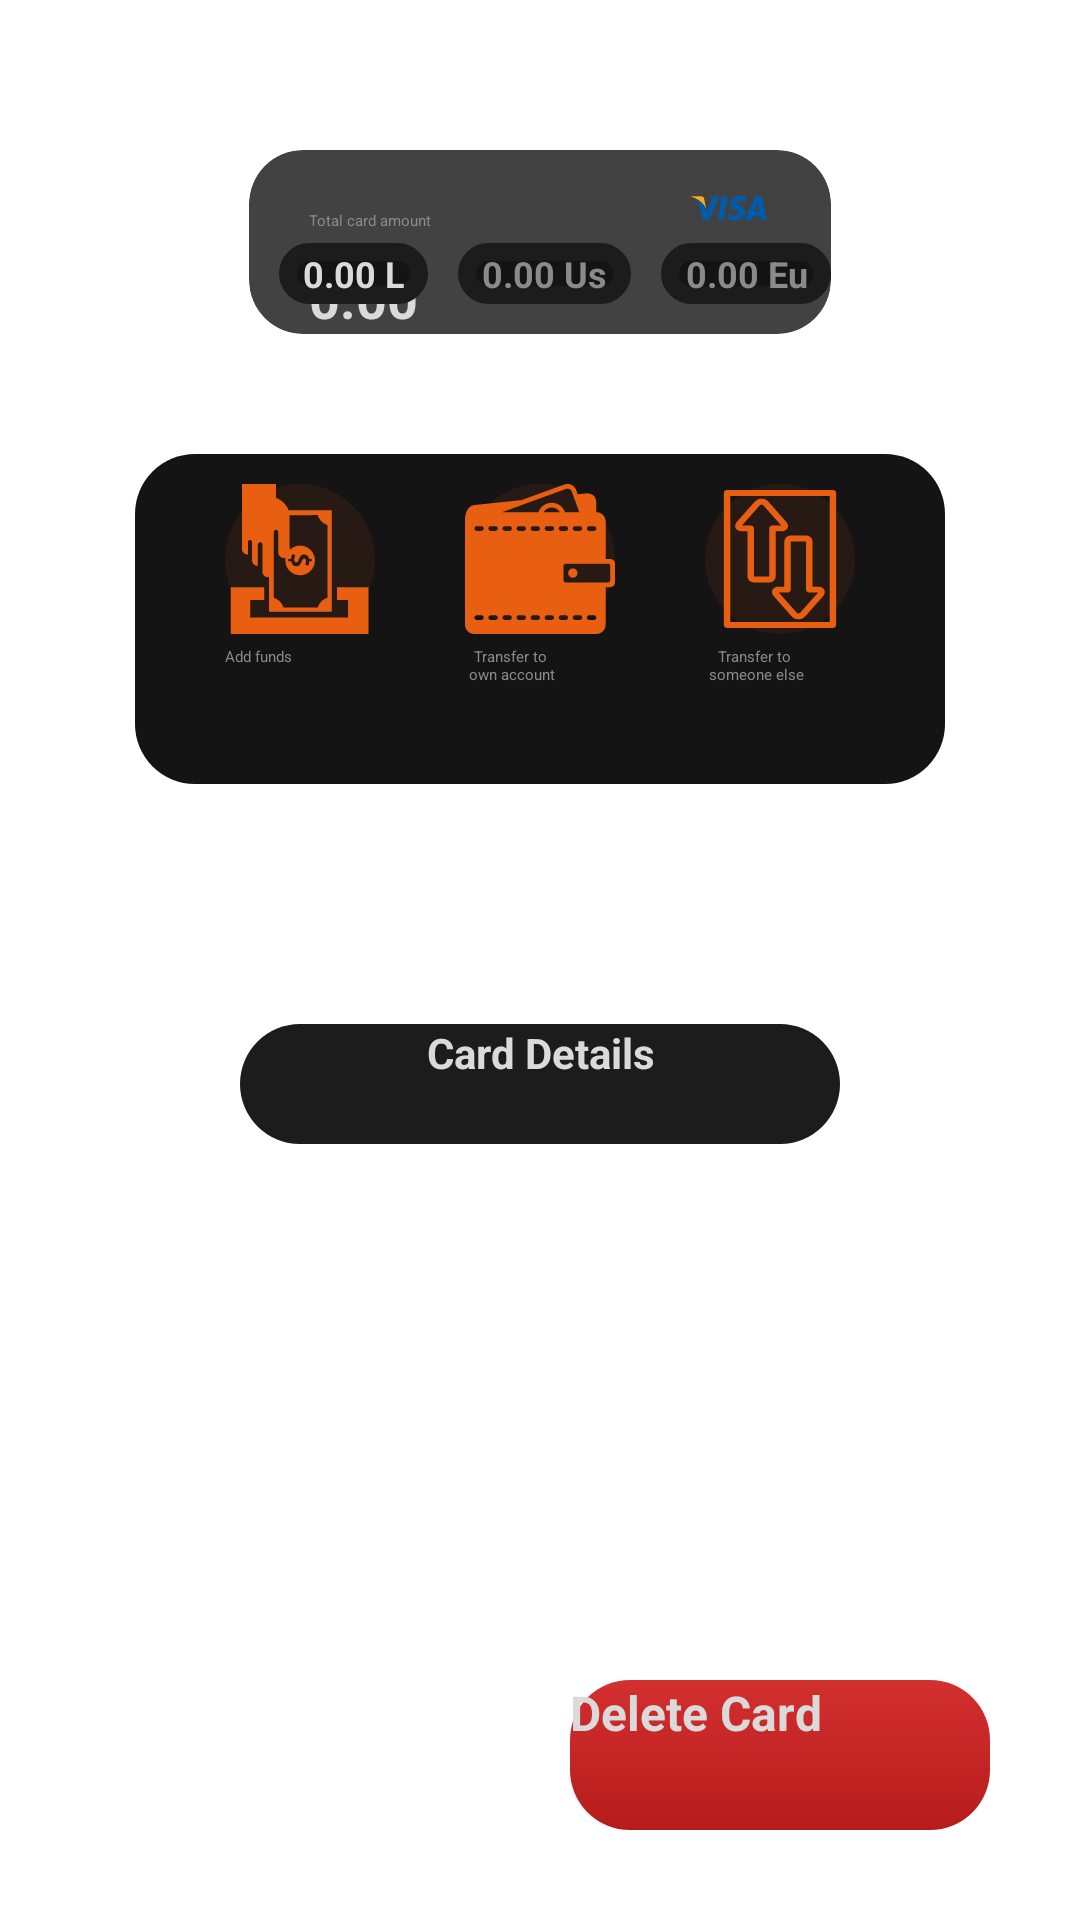

Screen size 1080×1920. Icon name, then its box in pixels as {"left": x1, "top": y1, "right": x2, "bottom": y2}:
transact: {"left": 705, "top": 484, "right": 855, "bottom": 634}
wallet: {"left": 465, "top": 484, "right": 615, "bottom": 634}
